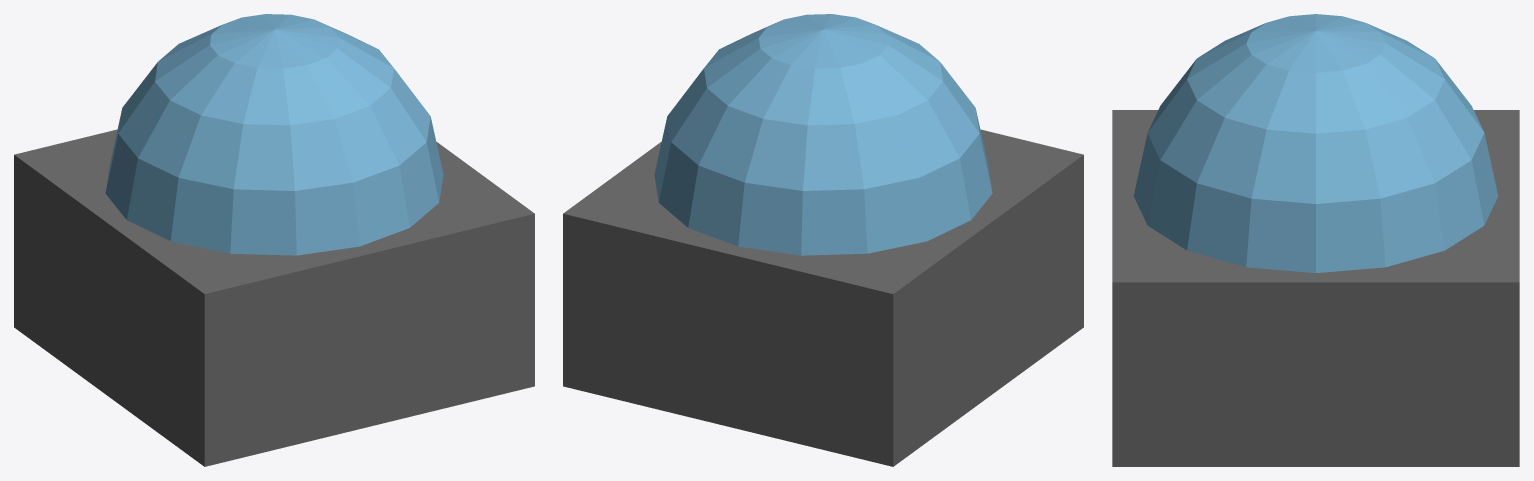
File: Omni_Cockpit_I_Model.fbx
3 views of the same model, side by side, from view 1: azimuth 30°, elevation 25°; view 2: azimuth 150°, elevation 25°; view 3: azimuth 270°, elevation 25° (orthographic). The views are drawn at different scales.
Parts seen in each view (by area): view 1: Cube; view 2: Cube; view 3: Cube.
Part boxes in pixels (x1,y1,x2,y2): Cube: [14, 14, 534, 466]; Cube: [563, 14, 1083, 466]; Cube: [1112, 14, 1519, 466].
Bounding box in the file's own units: 2 × 1.89 × 2.
